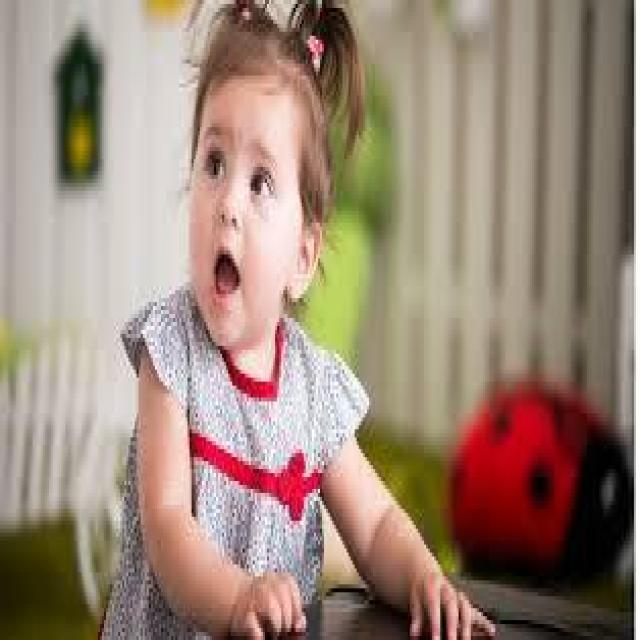person: (118, 4, 432, 636)
